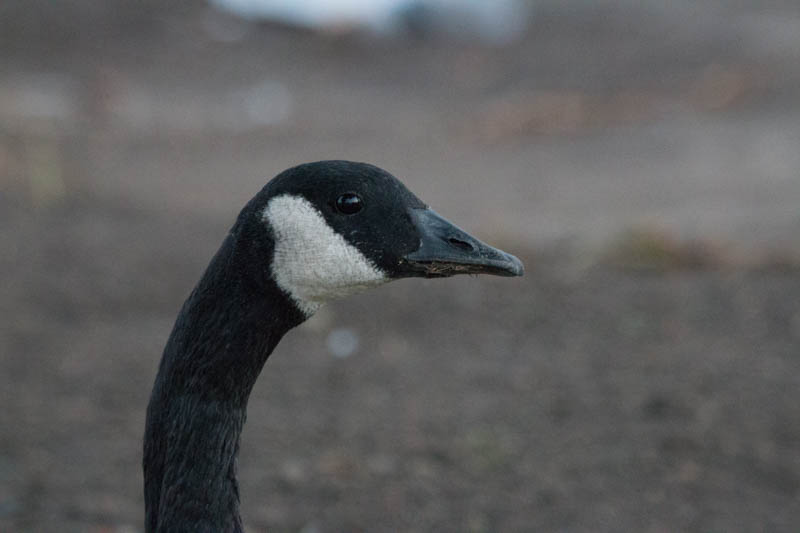goose-head: (227, 160, 525, 317)
